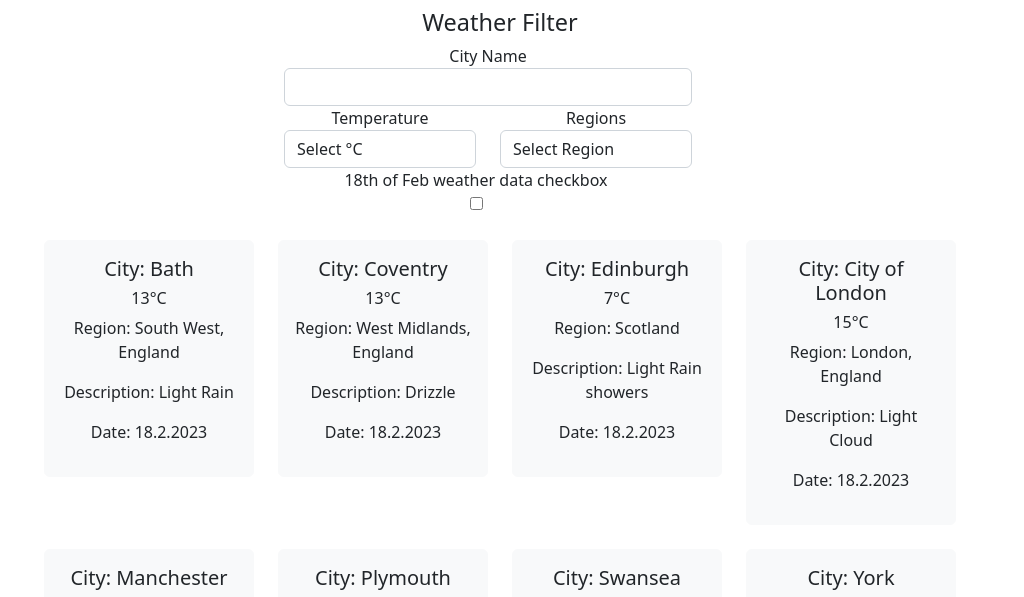
Test: Dev task - checkbox › verify checkbox
Check the checkbox.
click(477, 204)  # box left=470, top=197, right=483, bottom=210
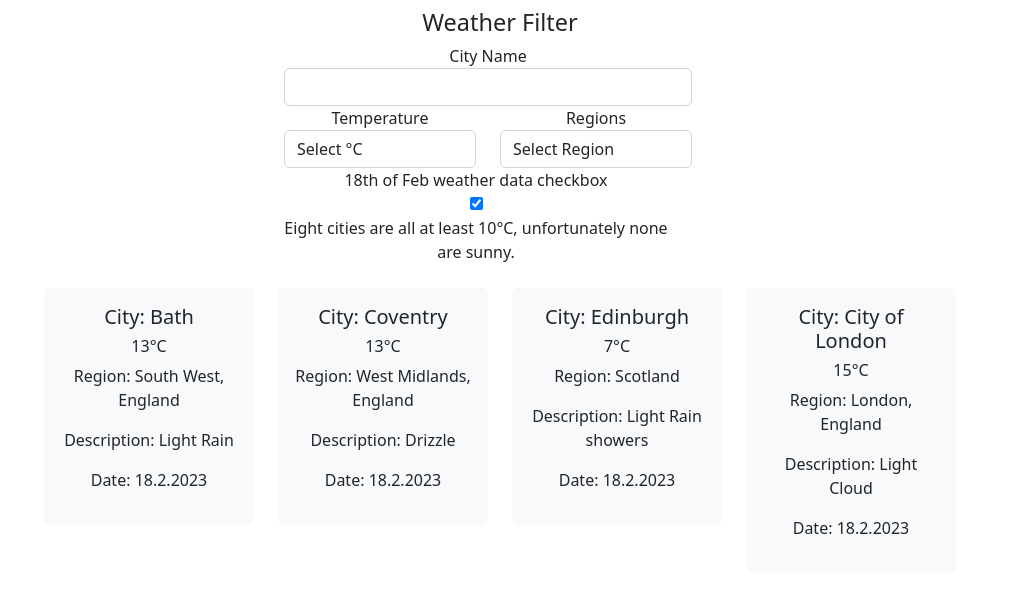
Expected: the checkbox is checked, left=470, top=197, right=483, bottom=210
Expected: the text with id "check-submitted" is shown, left=284, top=216, right=668, bottom=264
